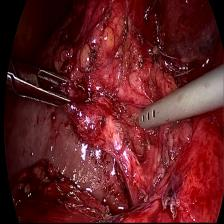Grasper: (10, 47, 92, 116)
Irrigator: (136, 96, 168, 136)
